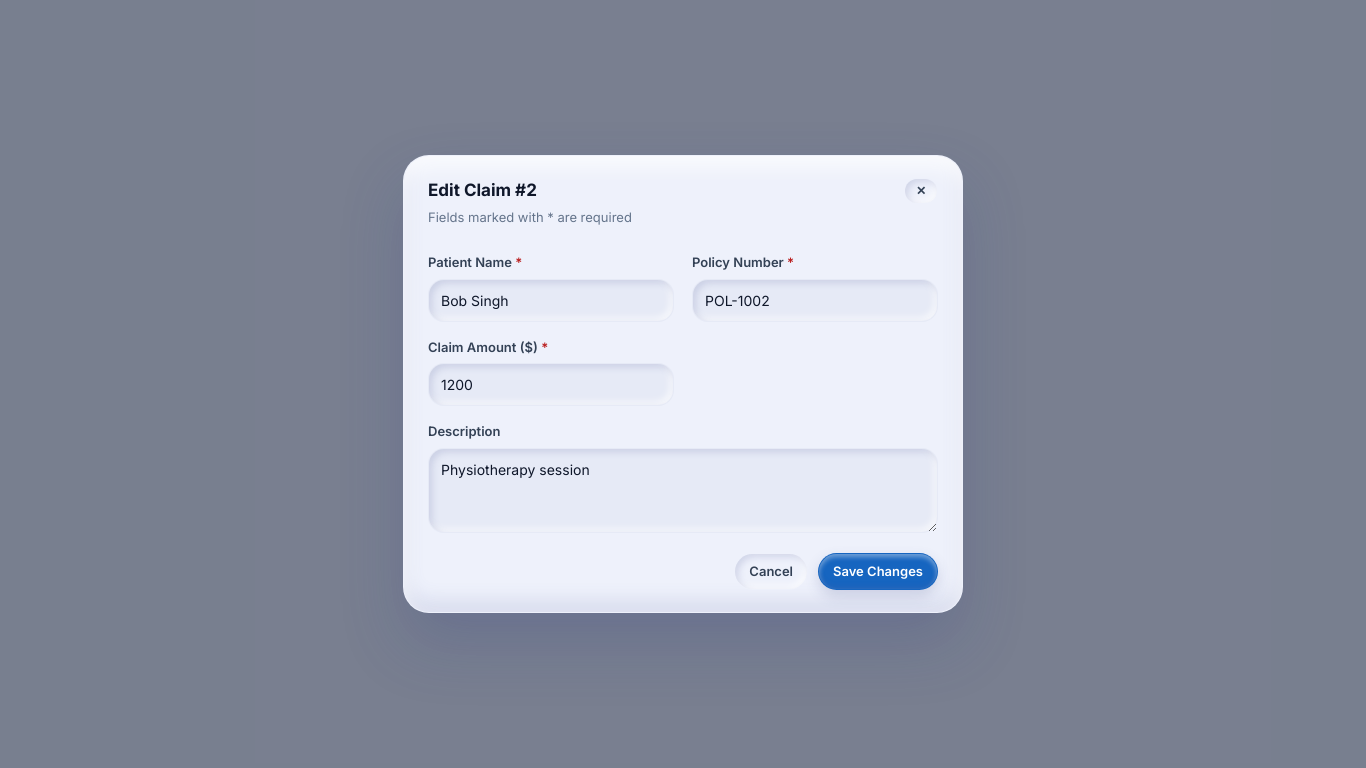
Scenario: EditClaimModal › rejects a non-positive (zero) claim amount
The width and height of the screenshot is (1366, 768).
Replace the text in the number field named "claimAmount" with "0" at (551, 384), box [428,363,674,406]
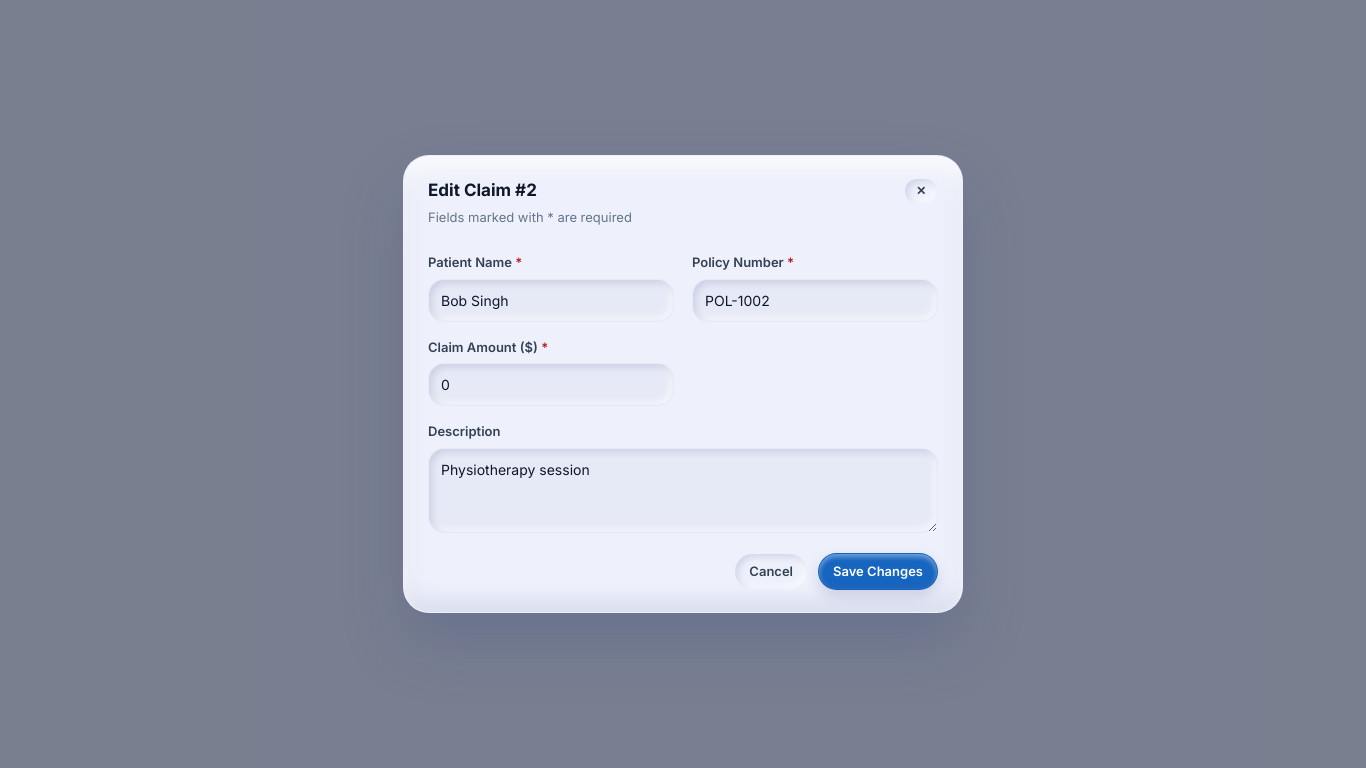
Submit the form, box [428,253,938,590]
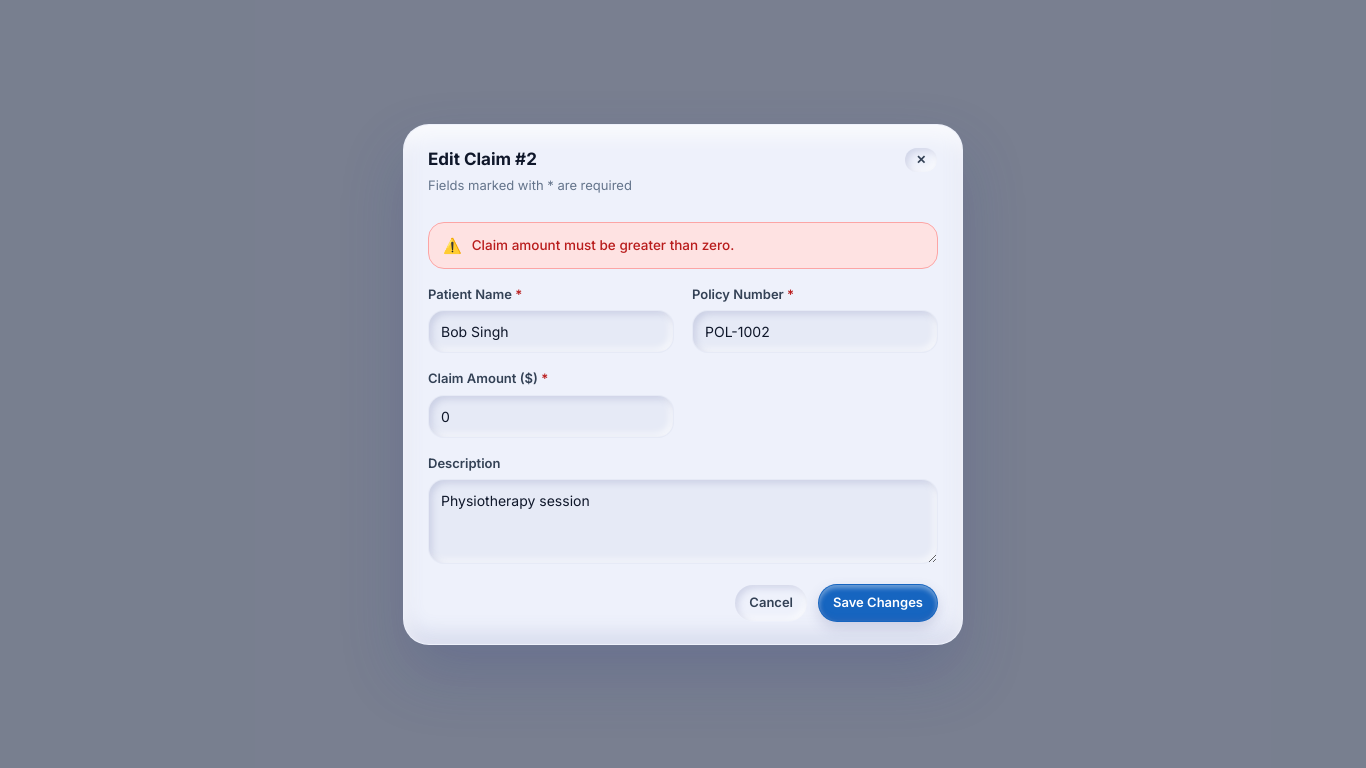
Check: the element with class "alert--error" is shown, box [428,222,938,268]
